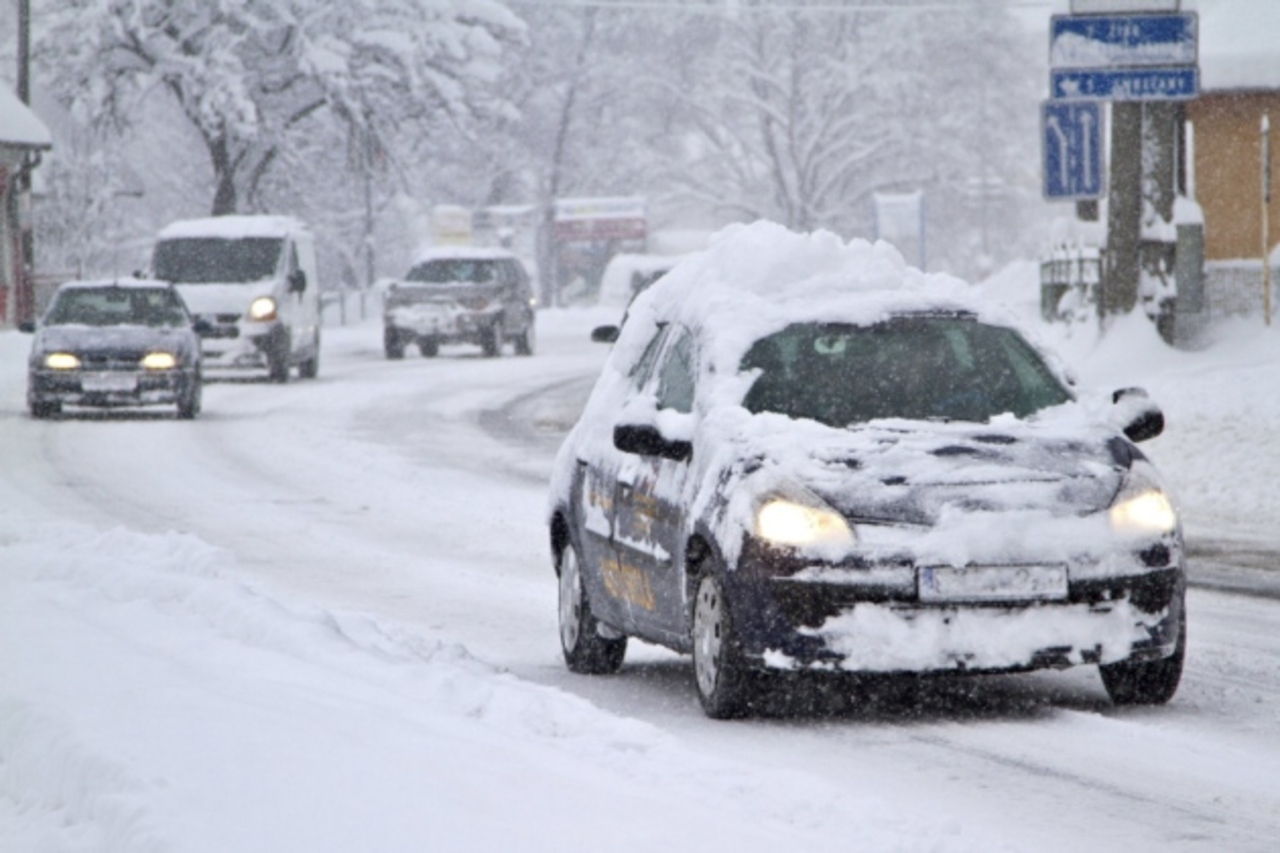car: (538, 235, 1201, 728), (146, 214, 323, 382), (26, 279, 206, 422), (380, 248, 537, 362)
